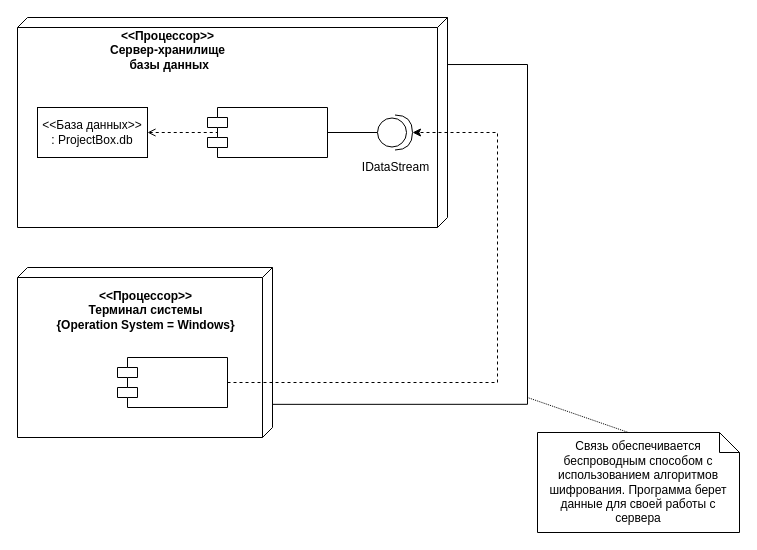
The diagram is 757 pixels wide and 550 high, and some of its shapes have lost their labels. Each missing label, with the centre of its shape:
"Microsoft SQL Server.exe" belongs at (267,132).
"ProjectBox.exe" belongs at (172,382).
